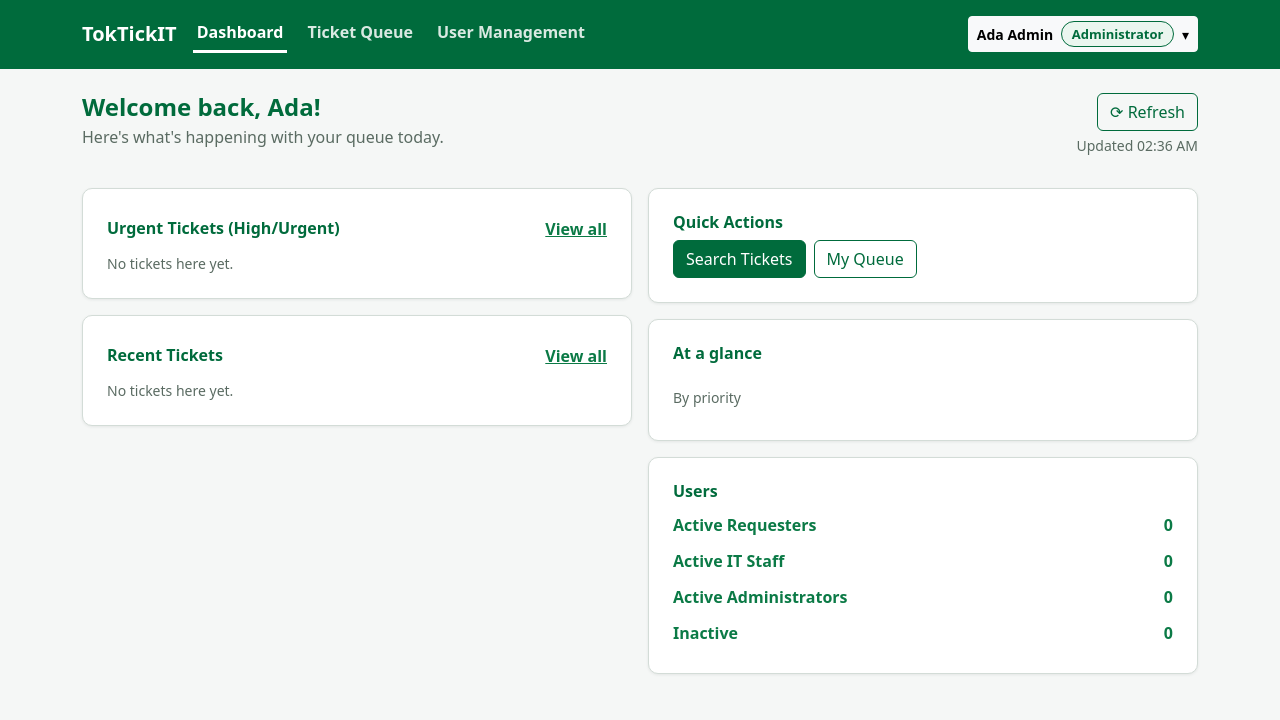
Test: UI-34 - user list and search (AC-46) › shows Must change password under an inactive/pending user
Click the button "User Management".
click(511, 34)  # box x1=433 y1=16 x2=589 y2=53
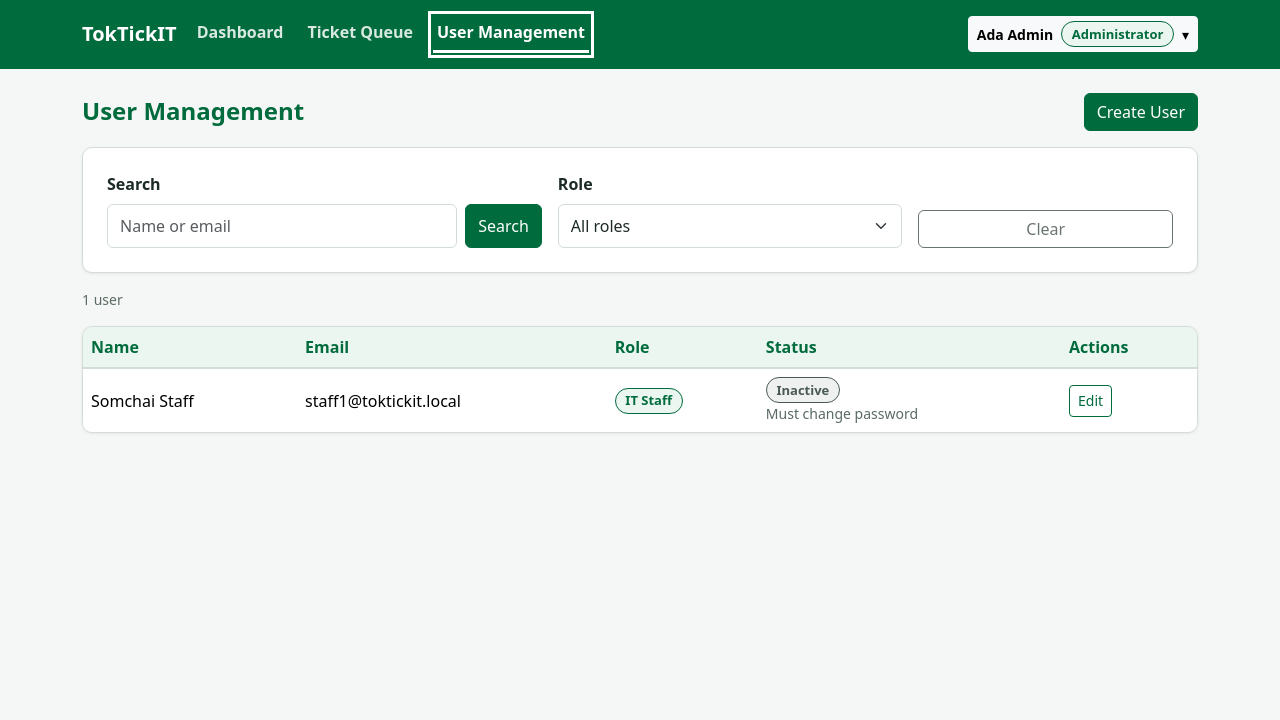
Expected: the text "Inactive" is shown, x1=766 y1=377 x2=840 y2=404
Result: the heading "User Management" is shown at x1=82 y1=97 x2=304 y2=126
Result: the text "Must change password" is shown at x1=766 y1=404 x2=918 y2=424
